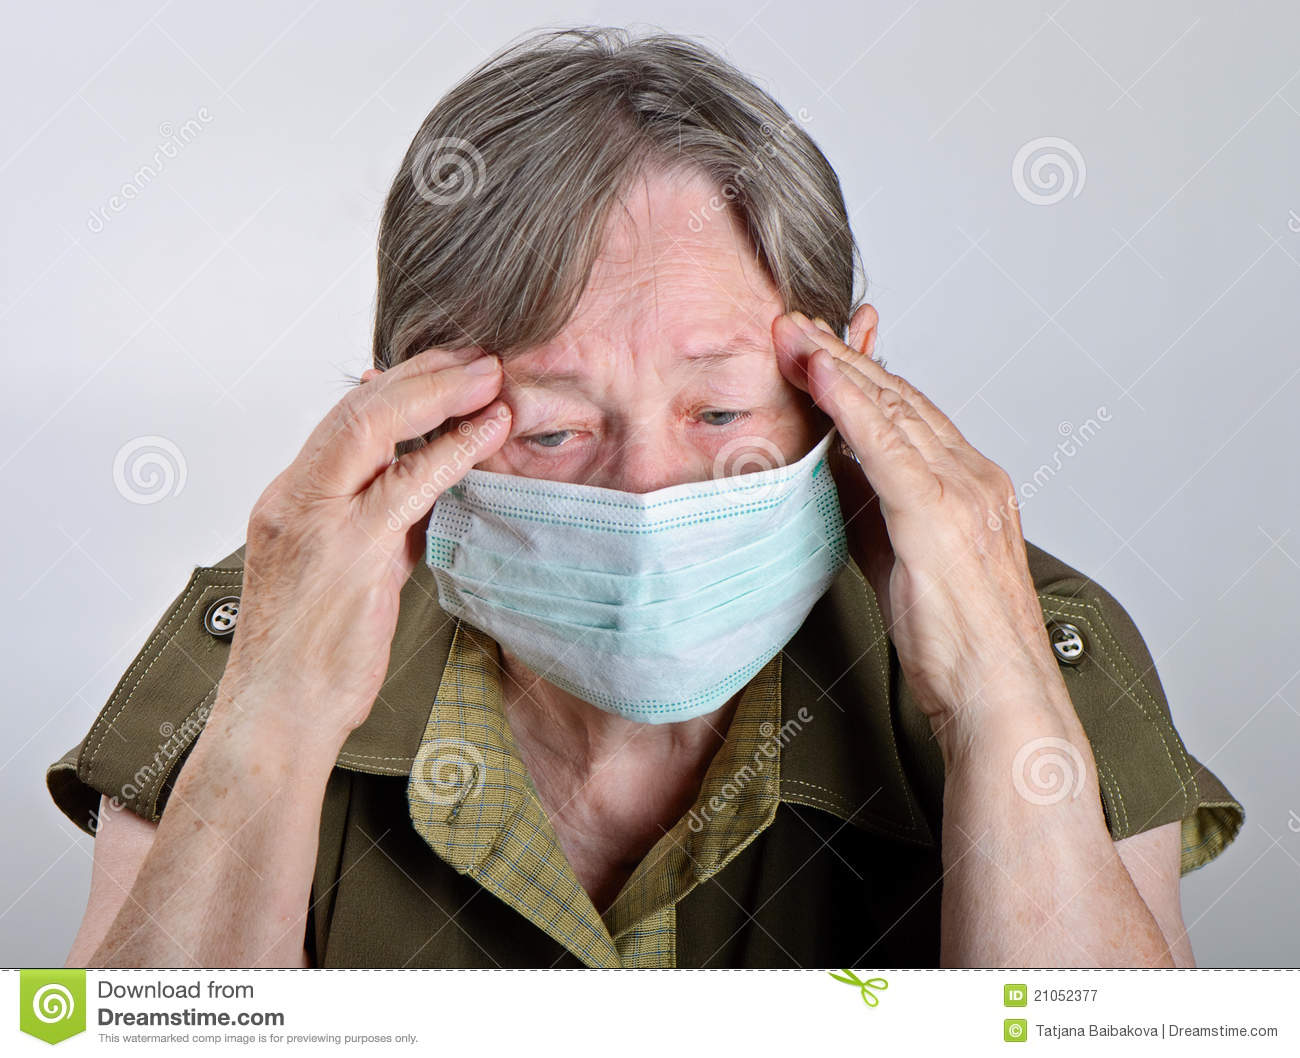mask: (428, 467, 854, 723)
